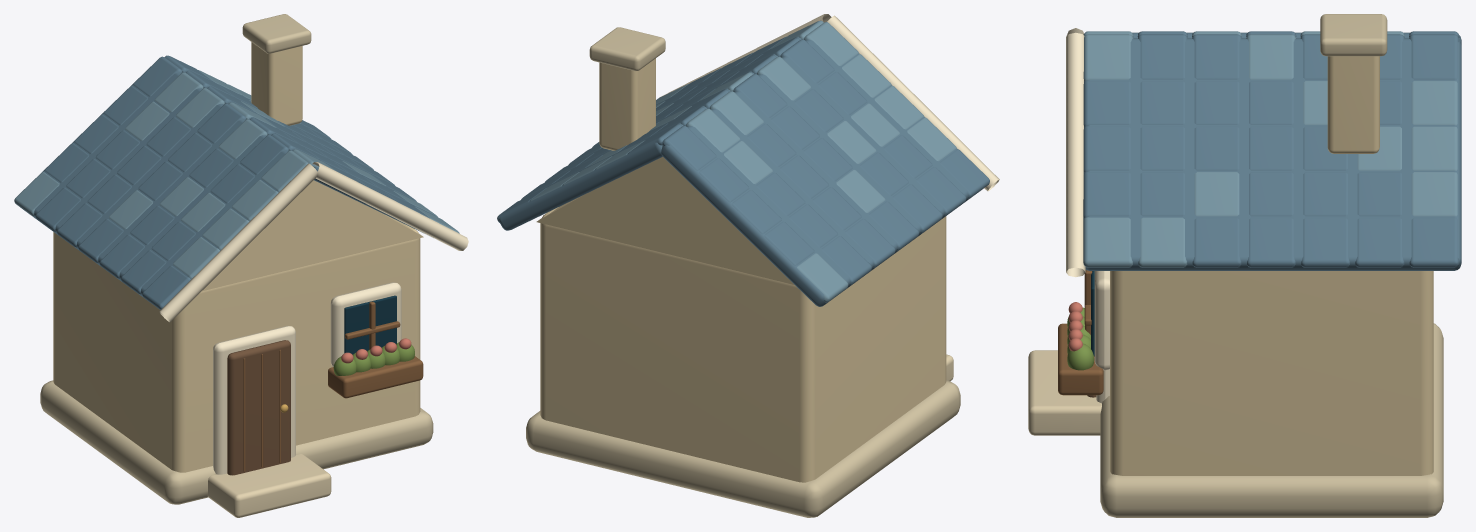
File: little_house.glb
3 views of the same model, side by side, from view 1: azimuth 30°, elevation 25°; view 2: azimuth 150°, elevation 25°; view 3: azimuth 270°, elevation 25° (orthographic). The views are drawn at different scales.
Visible parts, largest first — view 1: Chimney, Roof_base, Slate_tile, Chimney_cap, Door_frame, Wood_door, Doorstep, Door_plank, Window_glass, Window_leaf, Window_flower; view 2: Chimney, Roof_base, Chimney_cap, Slate_tile, Door_frame; view 3: Chimney, Roof_base, Slate_tile, Chimney_cap, Door_frame, Doorstep, Door_plank, Window_leaf, Window_flower.
Boxes of the visible parts, bbox=[...] form: Chimney: bbox=[53, 42, 423, 472]; Roof_base: bbox=[20, 55, 436, 309]; Slate_tile: bbox=[14, 70, 459, 278]; Chimney_cap: bbox=[40, 14, 433, 504]; Door_frame: bbox=[159, 162, 468, 474]; Wood_door: bbox=[227, 340, 290, 475]; Doorstep: bbox=[207, 454, 331, 517]; Door_plank: bbox=[243, 301, 423, 471]; Window_glass: bbox=[344, 295, 396, 354]; Window_leaf: bbox=[333, 342, 414, 375]; Window_flower: bbox=[341, 338, 411, 363]; Chimney: bbox=[536, 58, 946, 482]; Roof_base: bbox=[497, 36, 989, 306]; Chimney_cap: bbox=[526, 27, 960, 517]; Slate_tile: bbox=[530, 20, 956, 302]; Door_frame: bbox=[659, 14, 999, 191]; Chimney: bbox=[1110, 56, 1433, 475]; Roof_base: bbox=[1083, 31, 1461, 270]; Slate_tile: bbox=[1083, 31, 1457, 267]; Chimney_cap: bbox=[1100, 14, 1443, 517]; Door_frame: bbox=[1066, 28, 1109, 403]; Doorstep: bbox=[1028, 350, 1101, 435]; Door_plank: bbox=[1058, 270, 1103, 395]; Window_leaf: bbox=[1067, 307, 1094, 370]; Window_flower: bbox=[1068, 302, 1082, 351].
Size of the model in its own units: 2.75 by 3.1 by 2.65.
